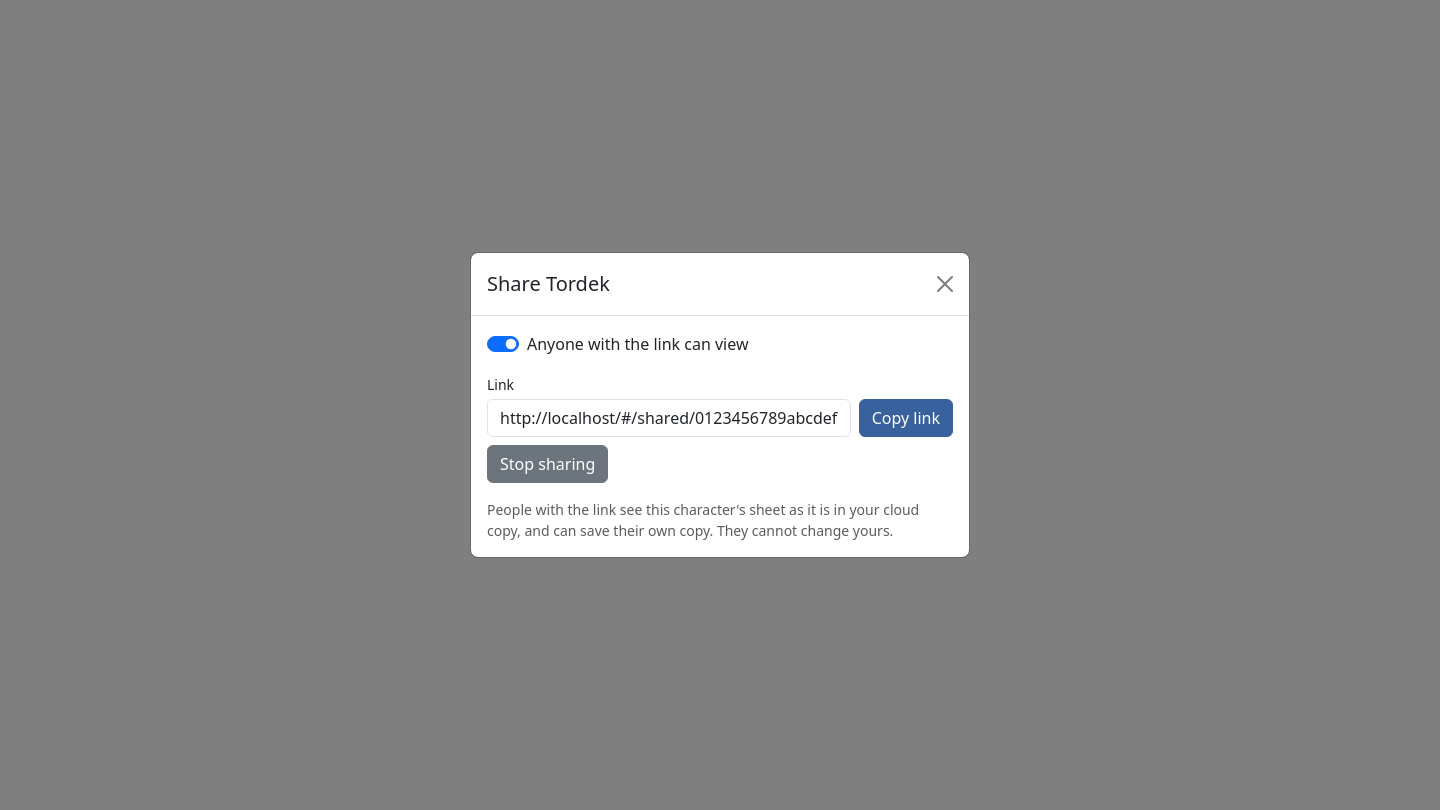
Test: the Share window › stops sharing from the switch or the button, and says so
Later steps or results of the test are not shown.
Click the button "Stop sharing" at (548, 464), box top-left (487, 445), bottom-right (608, 483)
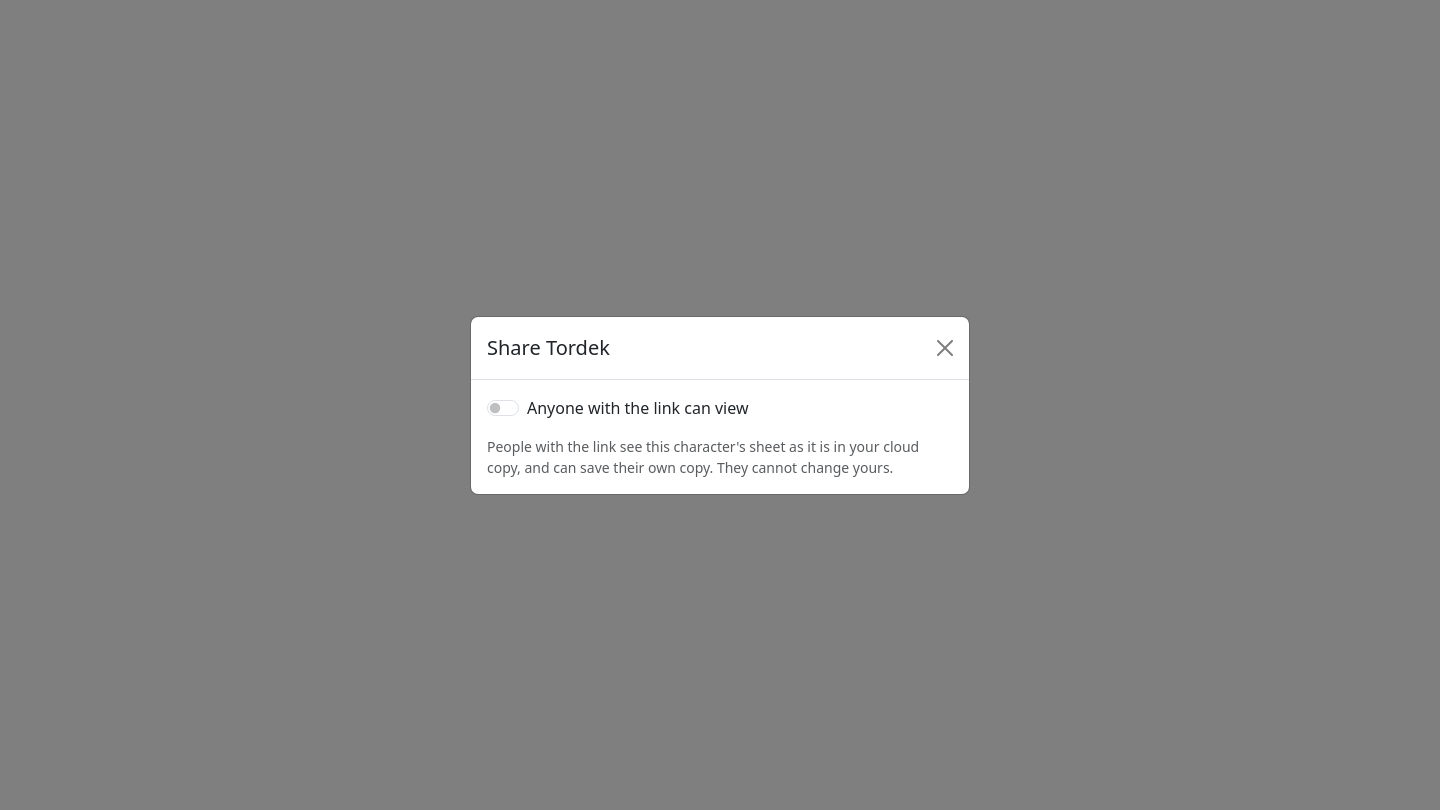
Expected: the switch is not checked, top-left (487, 400), bottom-right (519, 416)
